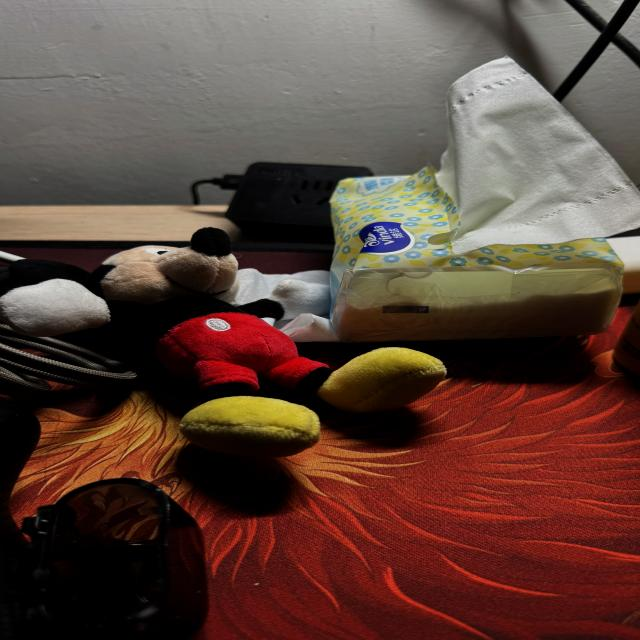mickey: (0, 228, 445, 457)
tissue: (331, 168, 622, 342), (438, 58, 639, 254)
